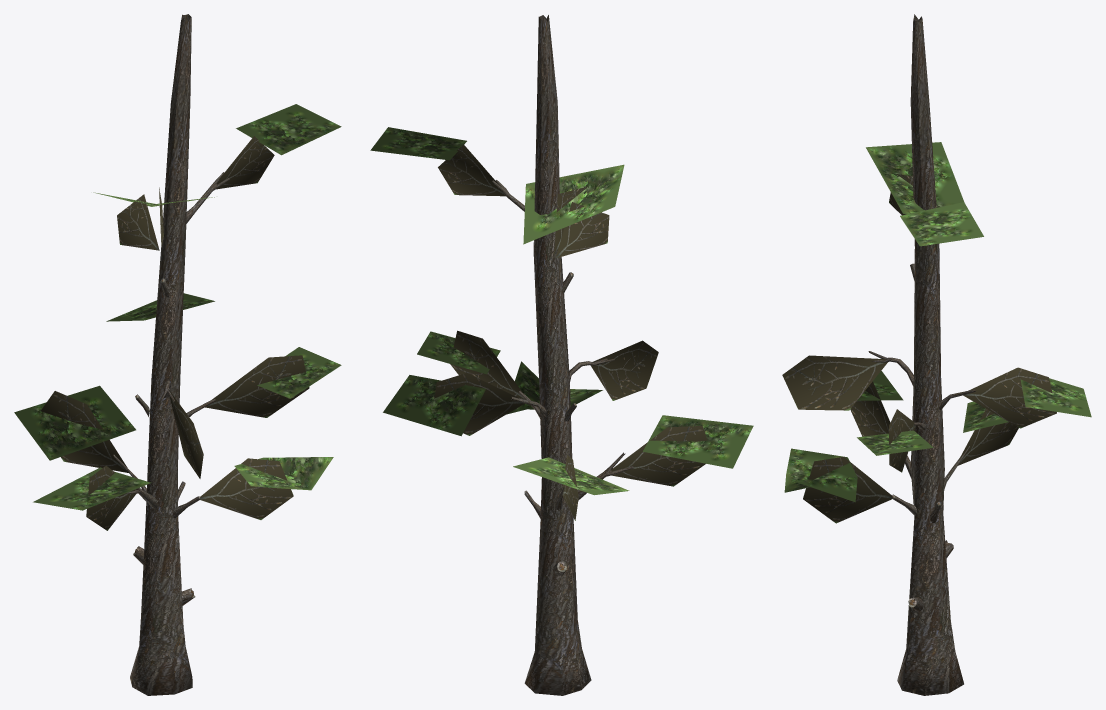
File: Tree_ElephantEar1.fbx
The picture shows the model from 3 angles, left to right: view 1: azimuth 30°, elevation 25°; view 2: azimuth 150°, elevation 25°; view 3: azimuth 270°, elevation 25°; orthographic projection. The views are drawn at different scales.
Visible parts, largest first — view 1: ElephantEar_leaves1, ElephantEar_trunk1, ElephantEar_leaves2, ElephantEar_trunk2; view 2: ElephantEar_leaves1, ElephantEar_trunk1, ElephantEar_leaves2, ElephantEar_trunk2; view 3: ElephantEar_leaves1, ElephantEar_trunk1, ElephantEar_leaves2, ElephantEar_trunk2.
Part boxes in pixels (x1,y1,x2,y2): ElephantEar_leaves1: (14,104,341,530); ElephantEar_trunk1: (130,14,192,695); ElephantEar_leaves2: (16,106,340,529); ElephantEar_trunk2: (113,172,229,605); ElephantEar_leaves1: (370,127,753,520); ElephantEar_trunk1: (524,15,591,695); ElephantEar_leaves2: (373,127,751,518); ElephantEar_trunk2: (492,180,633,575); ElephantEar_leaves1: (782,142,1091,523); ElephantEar_trunk1: (897,14,963,695); ElephantEar_leaves2: (784,142,1090,522); ElephantEar_trunk2: (868,263,975,612).
Size of the model in its own units: 14.87 by 28.82 by 11.97.
